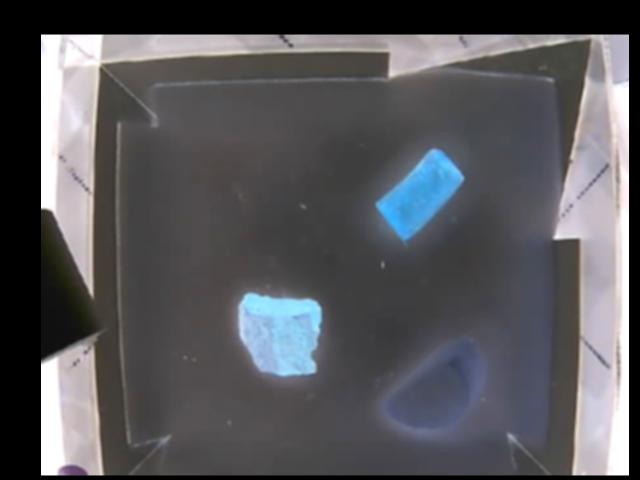Brisk: (236, 291, 322, 376)
Carrot: (374, 145, 468, 242)
Mooli: (378, 333, 485, 431)
